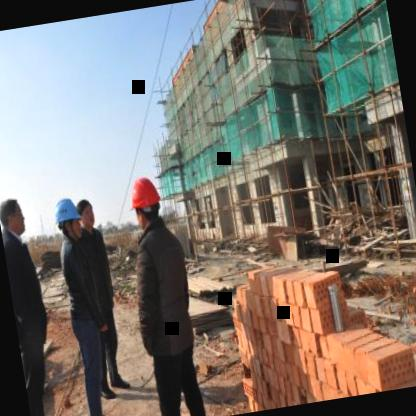head: (0, 192, 29, 239), (73, 192, 98, 232)
helmet: (124, 172, 170, 233), (51, 193, 84, 244)
